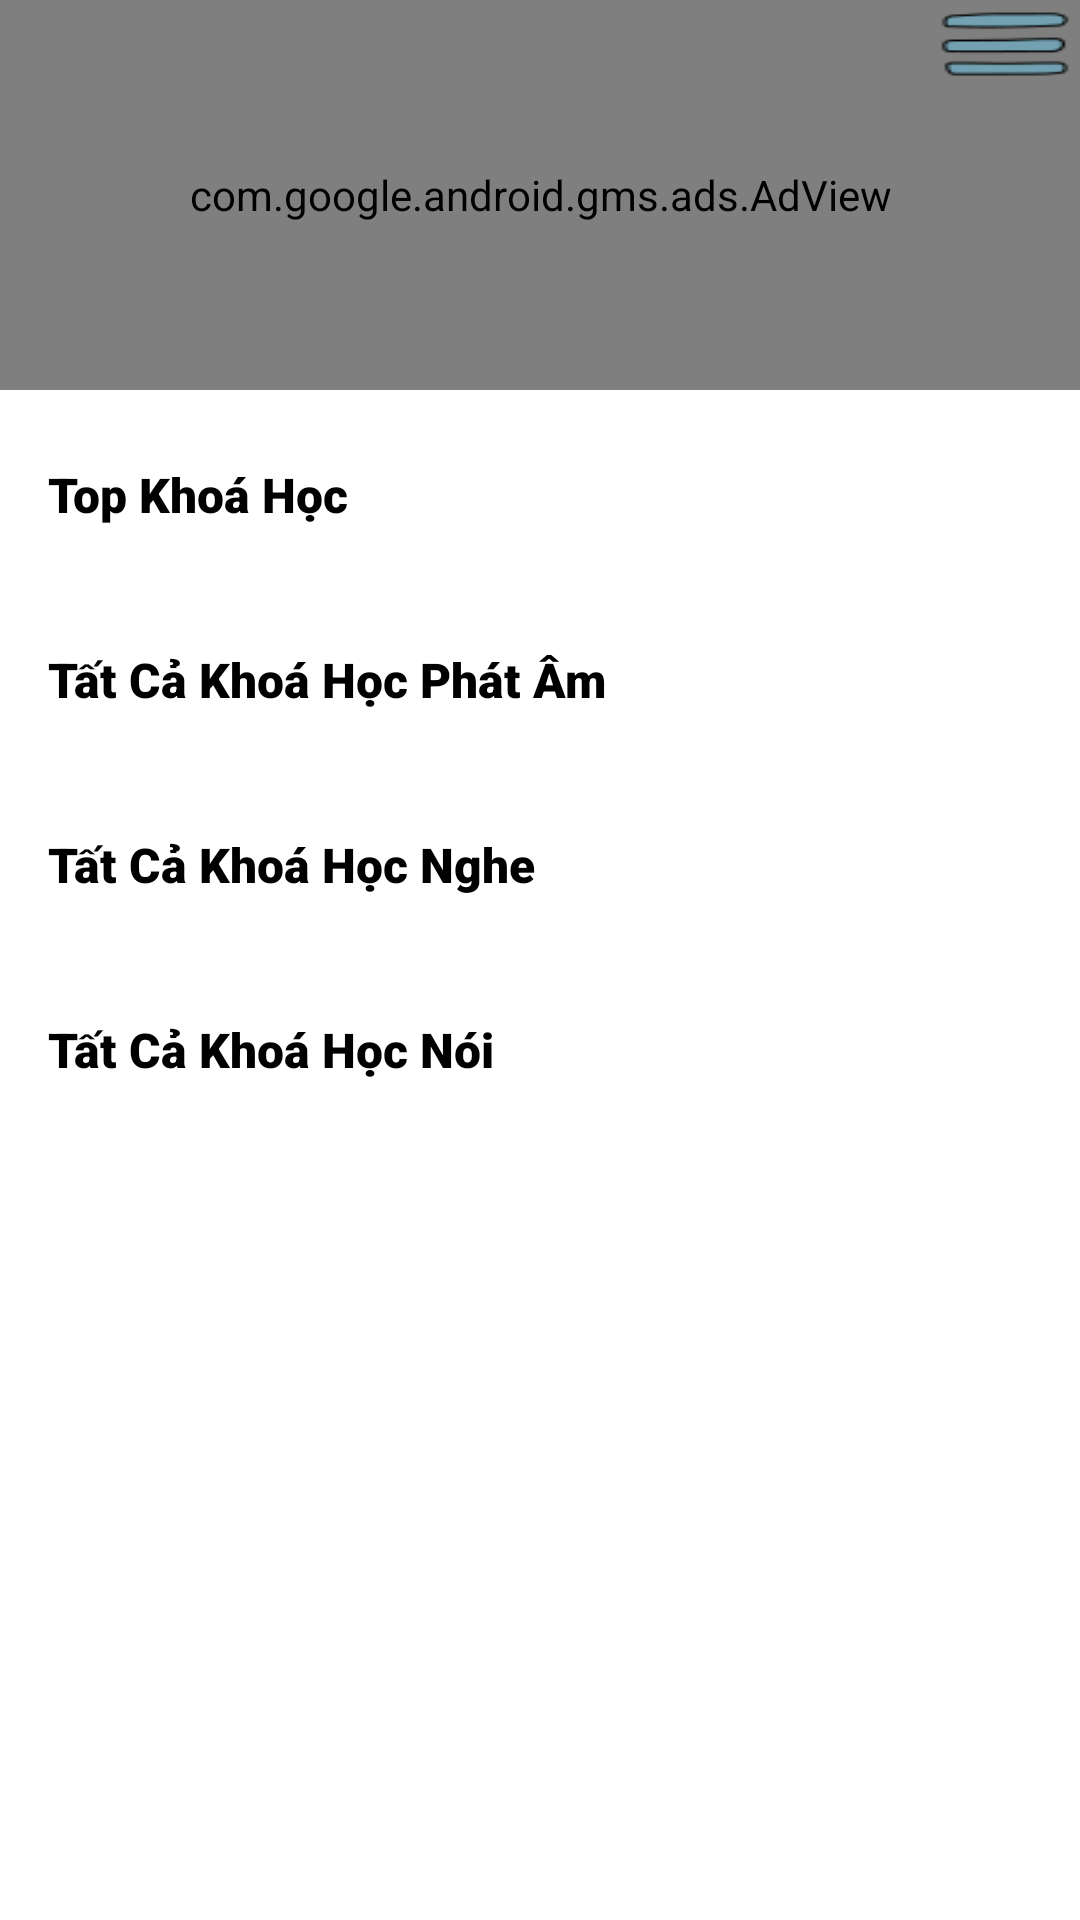

Icons on this 1080 × 1920 Android screen, each with its box as Rect(x1, y1, x2, y2):
menu: Rect(941, 12, 1069, 76)
